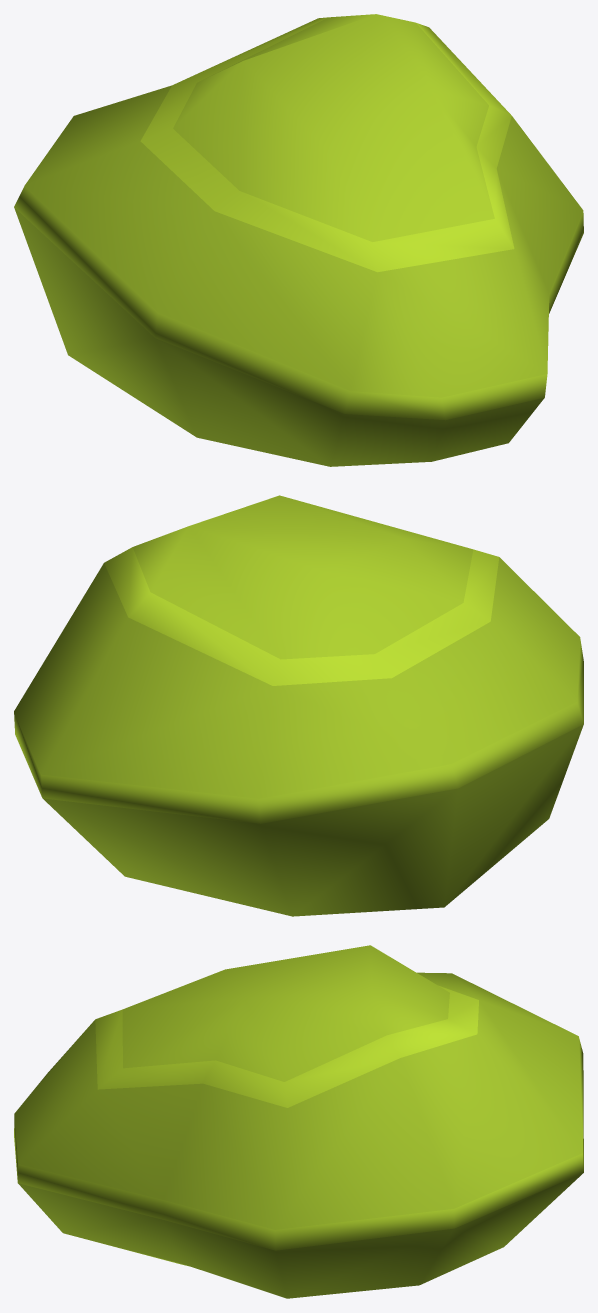
Rendered from magic_ore_M.fbx.
3 renders of one model, top to bottom at view 1: azimuth 30°, elevation 25°; view 2: azimuth 150°, elevation 25°; view 3: azimuth 270°, elevation 25°, orthographic. The views are drawn at different scales.
Parts seen in each view (by area): view 1: magic_ore_M; view 2: magic_ore_M; view 3: magic_ore_M.
Boxes of the visible parts, box(x1,y1,x2,y2) form: magic_ore_M: box(14, 14, 583, 466); magic_ore_M: box(14, 495, 583, 916); magic_ore_M: box(14, 945, 583, 1298).
Bounding box in the file's own units: 44.27 × 30.65 × 52.35.
1 material, 1 textured.
